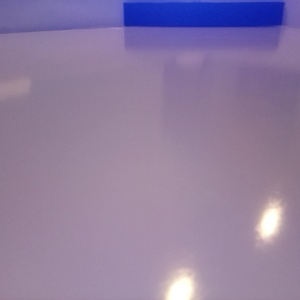zone: (124, 1, 284, 26)
